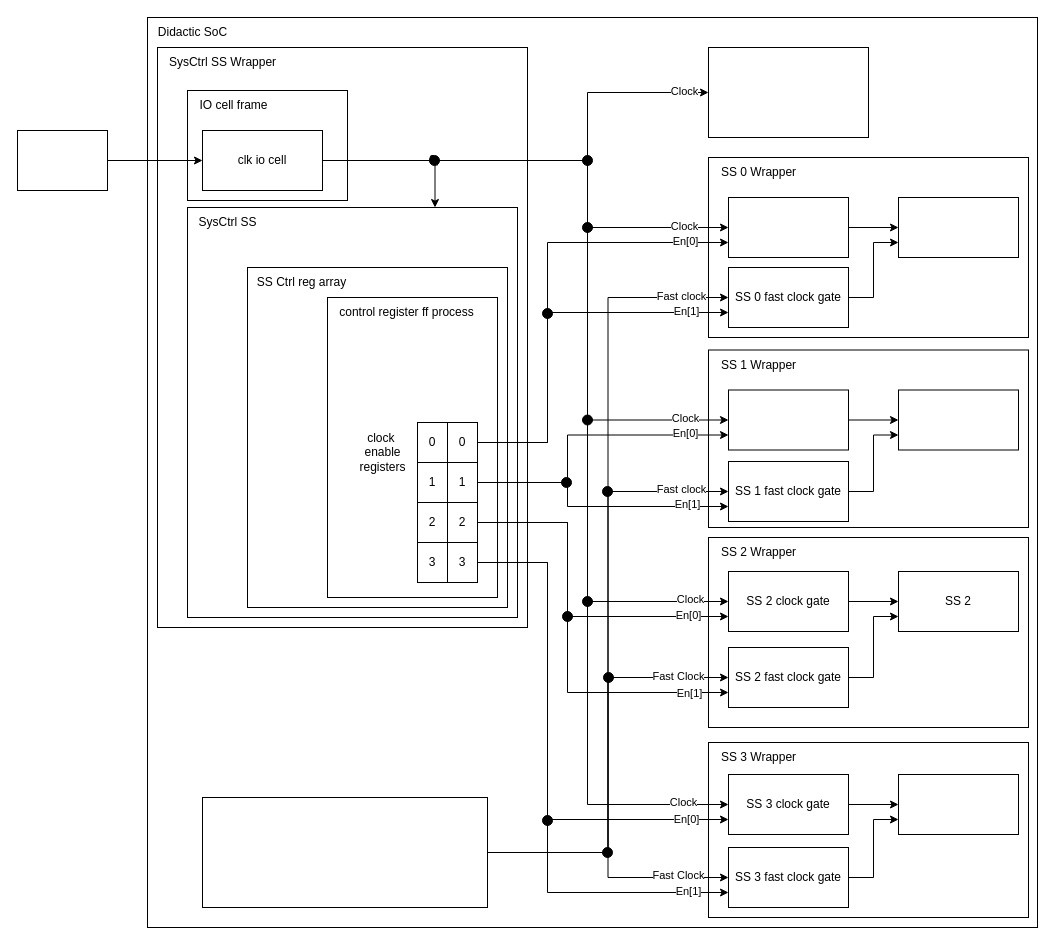
This 1055x945 diagram has some shape labels left out. Each missing label, with the centre of its shape:
External clock source: (x=62, y=160)
Fast clock source: (x=345, y=852)
Interconnect SS: (x=788, y=92)
SS 0: (x=958, y=227)
SS 0 clock gate: (x=788, y=227)
SS 1: (x=958, y=419)
SS 1 clock gate: (x=788, y=419)
SS 3: (x=958, y=804)
